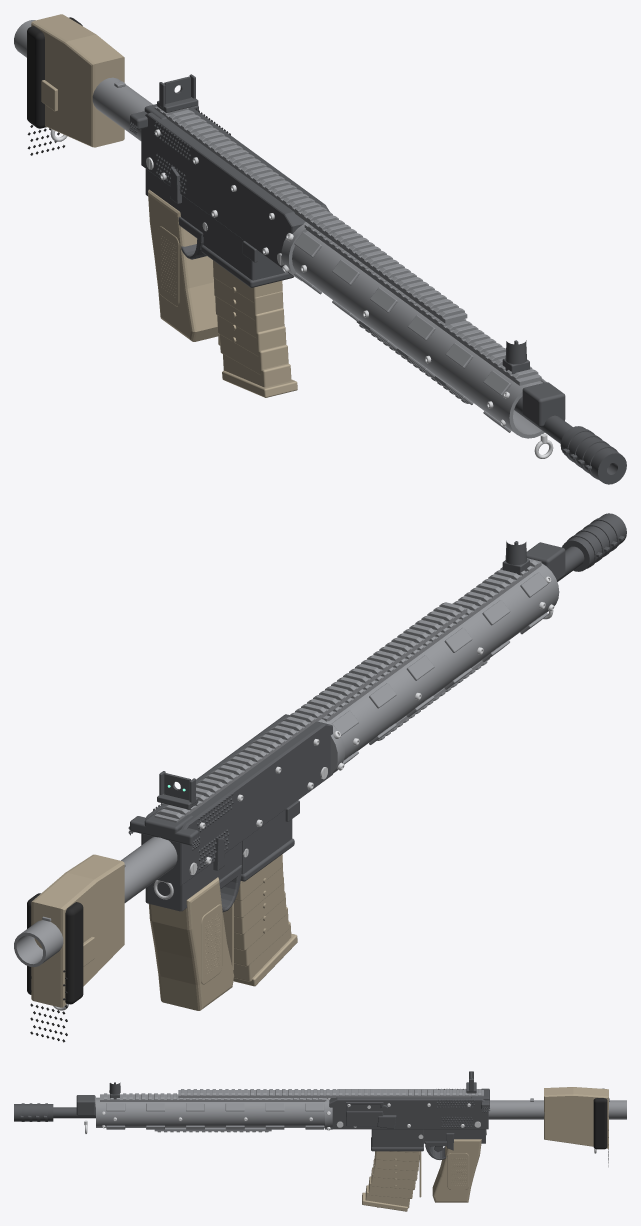
File: semi-auto-dmr.glb
The picture shows the model from 3 angles, top to bottom: view 1: azimuth 30°, elevation 25°; view 2: azimuth 150°, elevation 25°; view 3: azimuth 270°, elevation 25°; orthographic projection. The views are drawn at different scales.
Parts seen in each view (by area): view 1: dmr-semi-auto, stock/polymerTan, magazine/polymerTan, stock/rubber; view 2: dmr-semi-auto, stock/polymerTan, magazine/polymerTan, stock/rubber, charge; view 3: dmr-semi-auto, stock/polymerTan, magazine/polymerTan, stock/rubber, charge.
Part boxes in pixels (x1,y1,x2,y2): dmr-semi-auto: (14,20,626,484); stock/polymerTan: (31,14,124,147); magazine/polymerTan: (213,260,297,397); stock/rubber: (27,17,82,155); dmr-semi-auto: (14,513,626,1010); stock/polymerTan: (31,854,124,1007); magazine/polymerTan: (222,854,297,986); stock/rubber: (27,893,83,1042); charge: (128,808,200,850); dmr-semi-auto: (14,1071,626,1202); stock/polymerTan: (544,1087,608,1148); magazine/polymerTan: (362,1151,421,1211); stock/rubber: (593,1088,608,1166); charge: (471,1088,489,1112).
Size of the model in its own units: 0.0622 by 0.2312 by 0.97.
